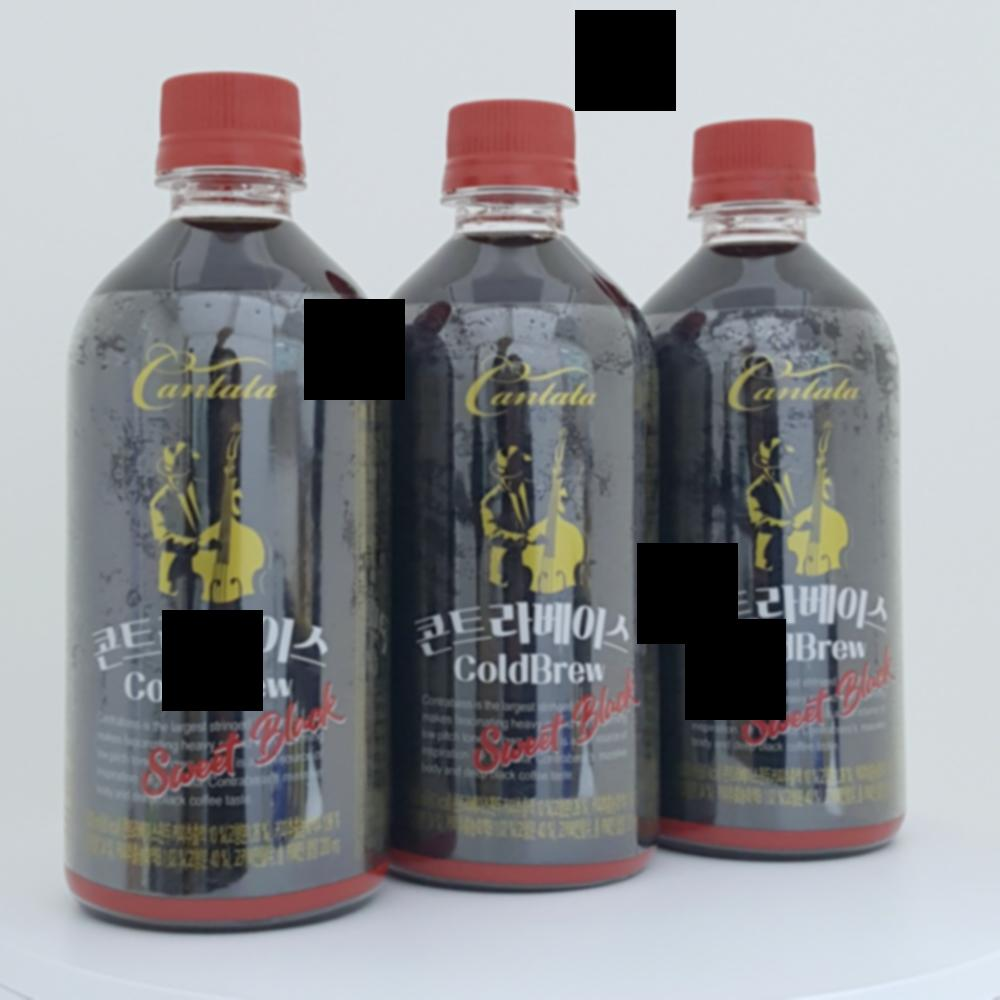contrabass_sweetblack: (33, 50, 385, 923), (641, 125, 944, 888), (381, 95, 660, 911)
